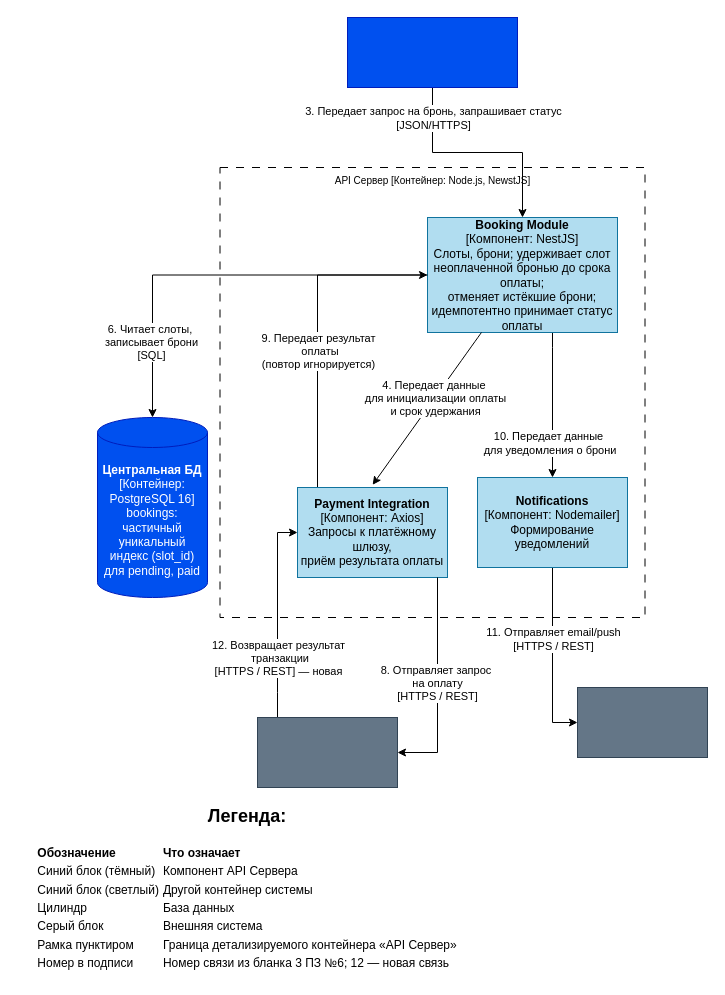
This 725x995 diagram has some shape labels left out. The shapes that lost their labels are listed below. From the top down, each one's centre as x and y in pixels, then its label:
At point (432, 52): "Веб-приложение [Контейнер: Newxt.js (React)] Интерфейс для всех ролей".
At point (642, 722): "Сервис уведомлений [Внешняя система] Email / Push".
At point (327, 752): "Платежный сервис [Внешняя система] Stripe, тестовый режим".
